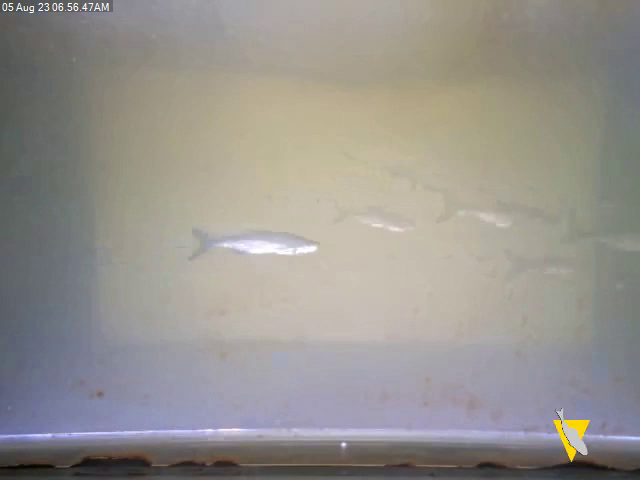\uAC15\uC900\uCE58: (190, 223, 320, 261)
